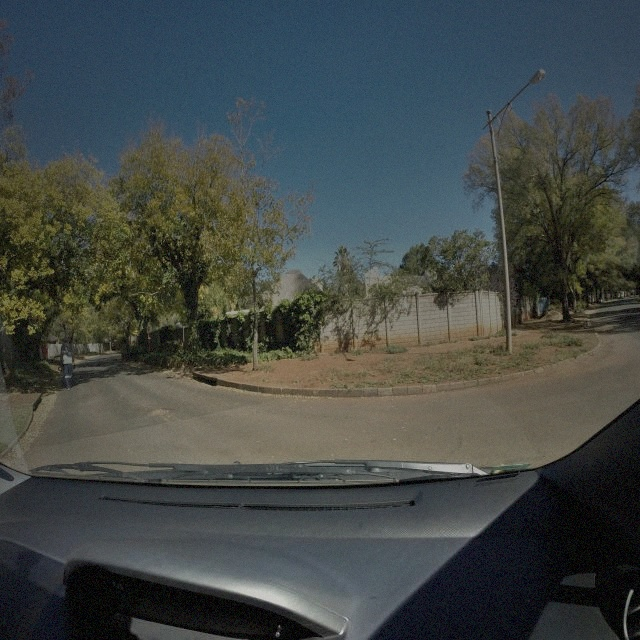pothole: (144, 406, 172, 418)
